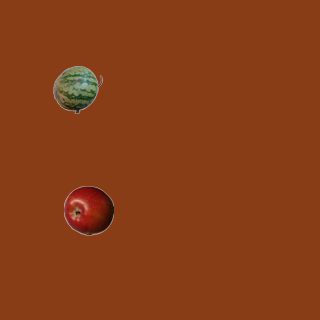Apple Braeburn: (63, 185, 113, 235)
Watermelon: (52, 64, 102, 114)
